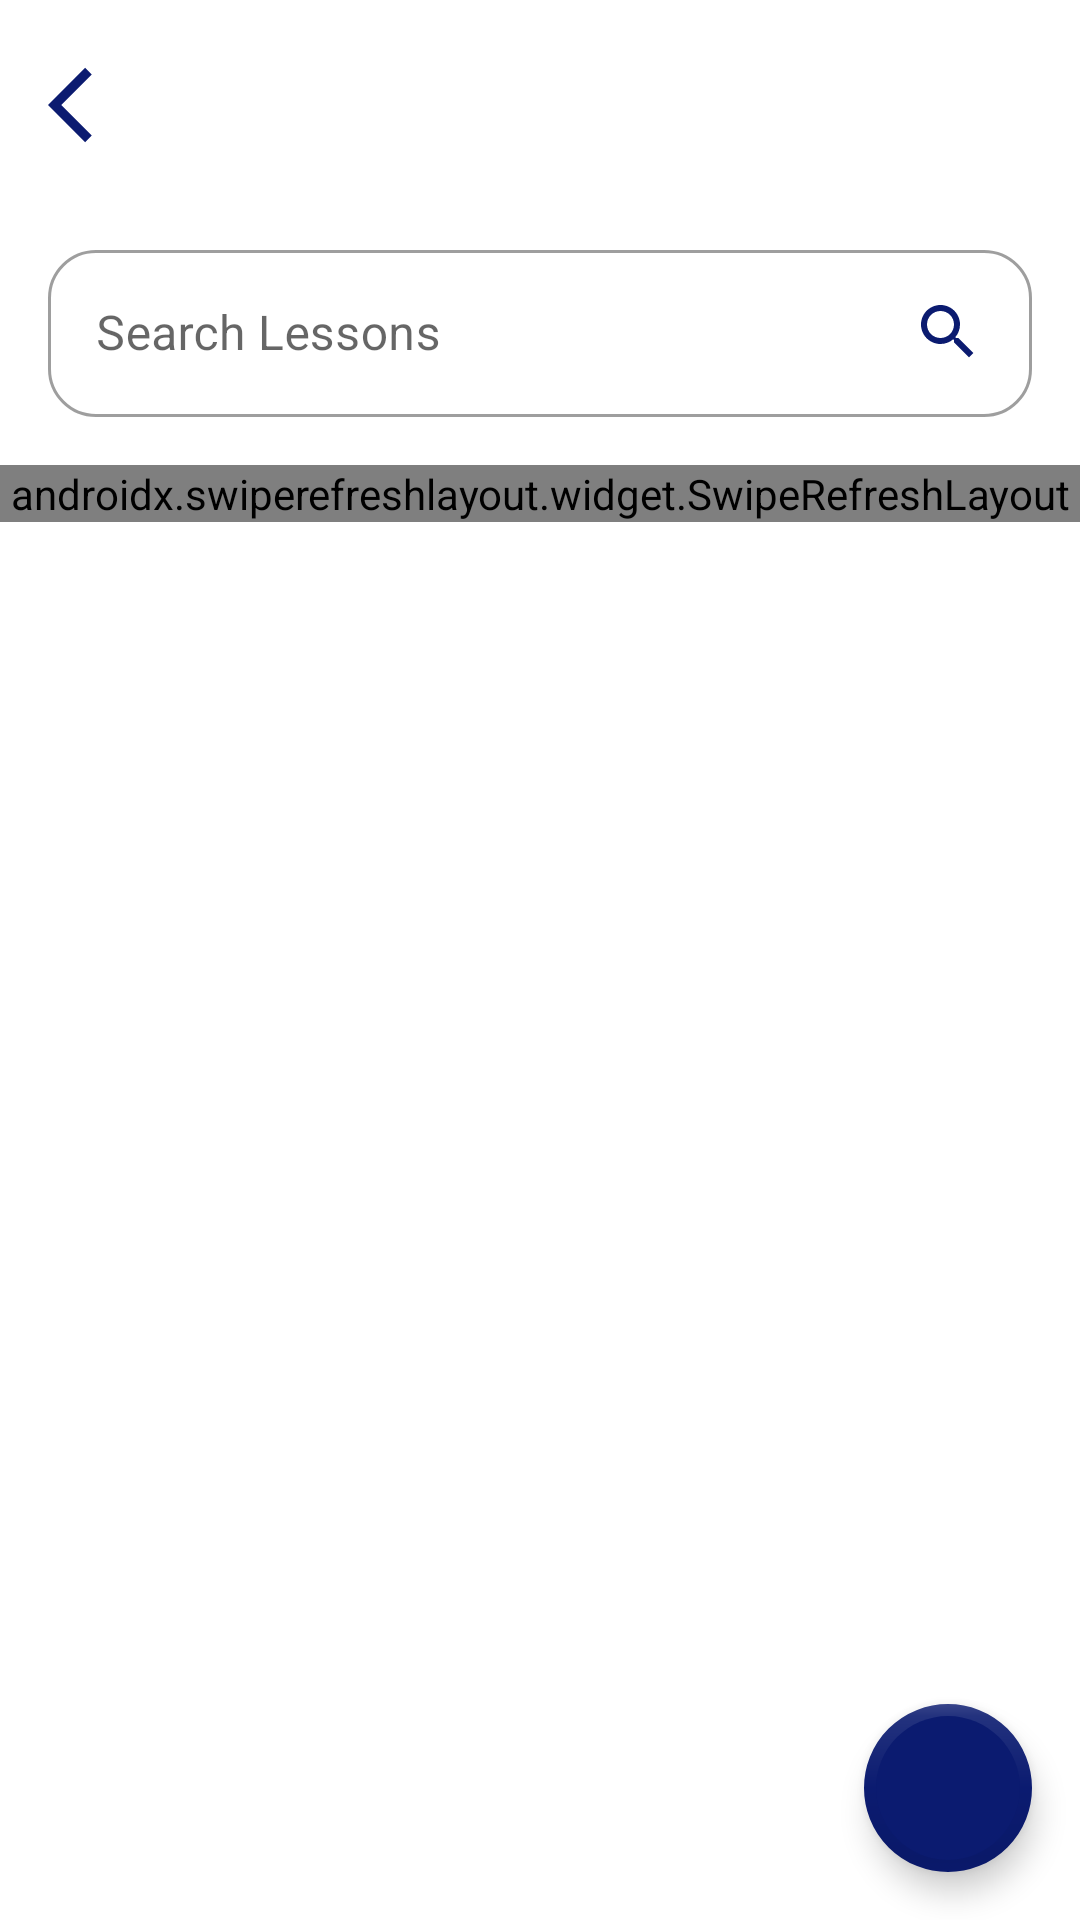

Where to tap for icons on this 1080px×1920px app screen, as (x=x, y=y):
arrow back: (x=70, y=105)
